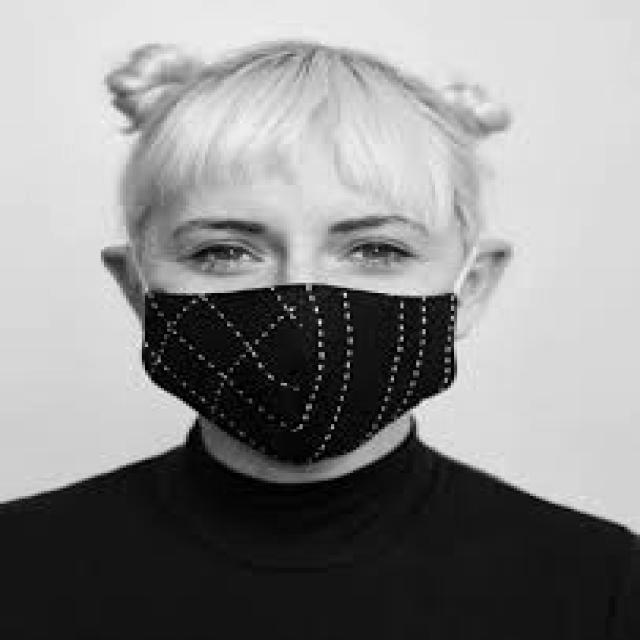fake: (138, 284, 467, 465)
real: (145, 154, 464, 470)
